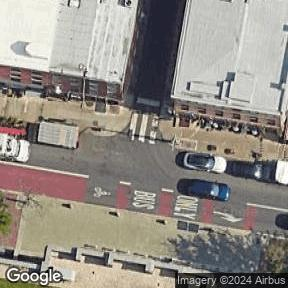vegetation: (0, 193, 12, 234)
